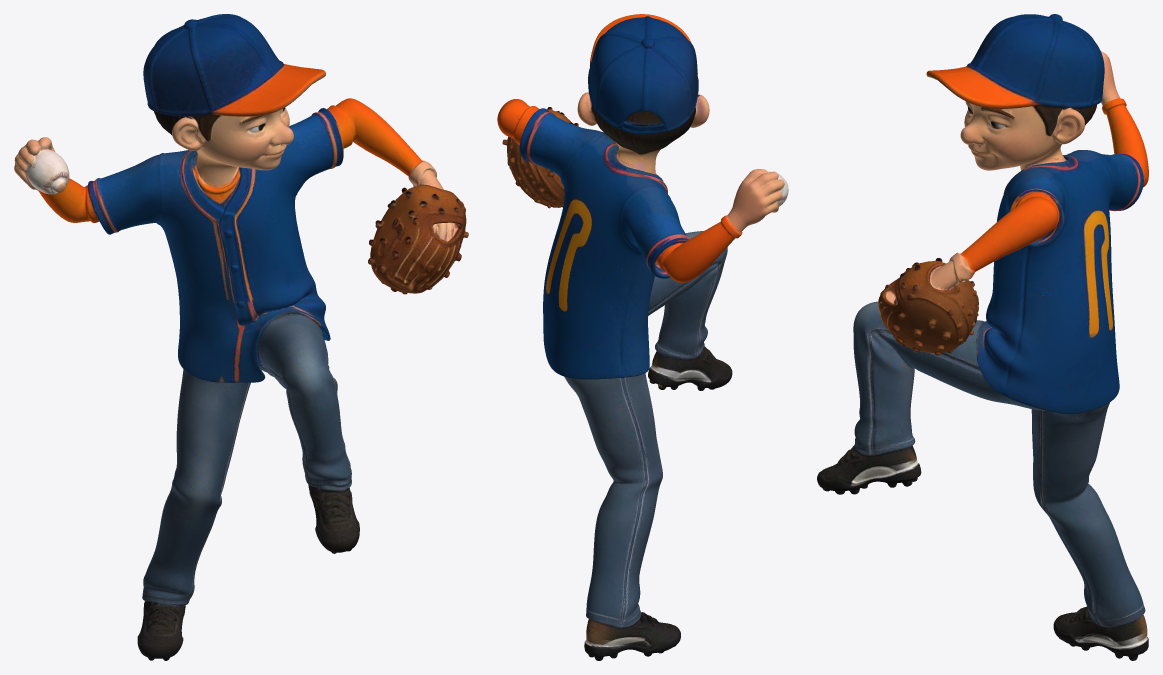
File: komi-pitcher.glb
3 views of the same model, side by side, from view 1: azimuth 30°, elevation 25°; view 2: azimuth 150°, elevation 25°; view 3: azimuth 270°, elevation 25° (orthographic). The views are drawn at different scales.
Size of the model in its own units: 1.12 by 1.9 by 0.8902.
Materials: 1 (1 with a texture image).
